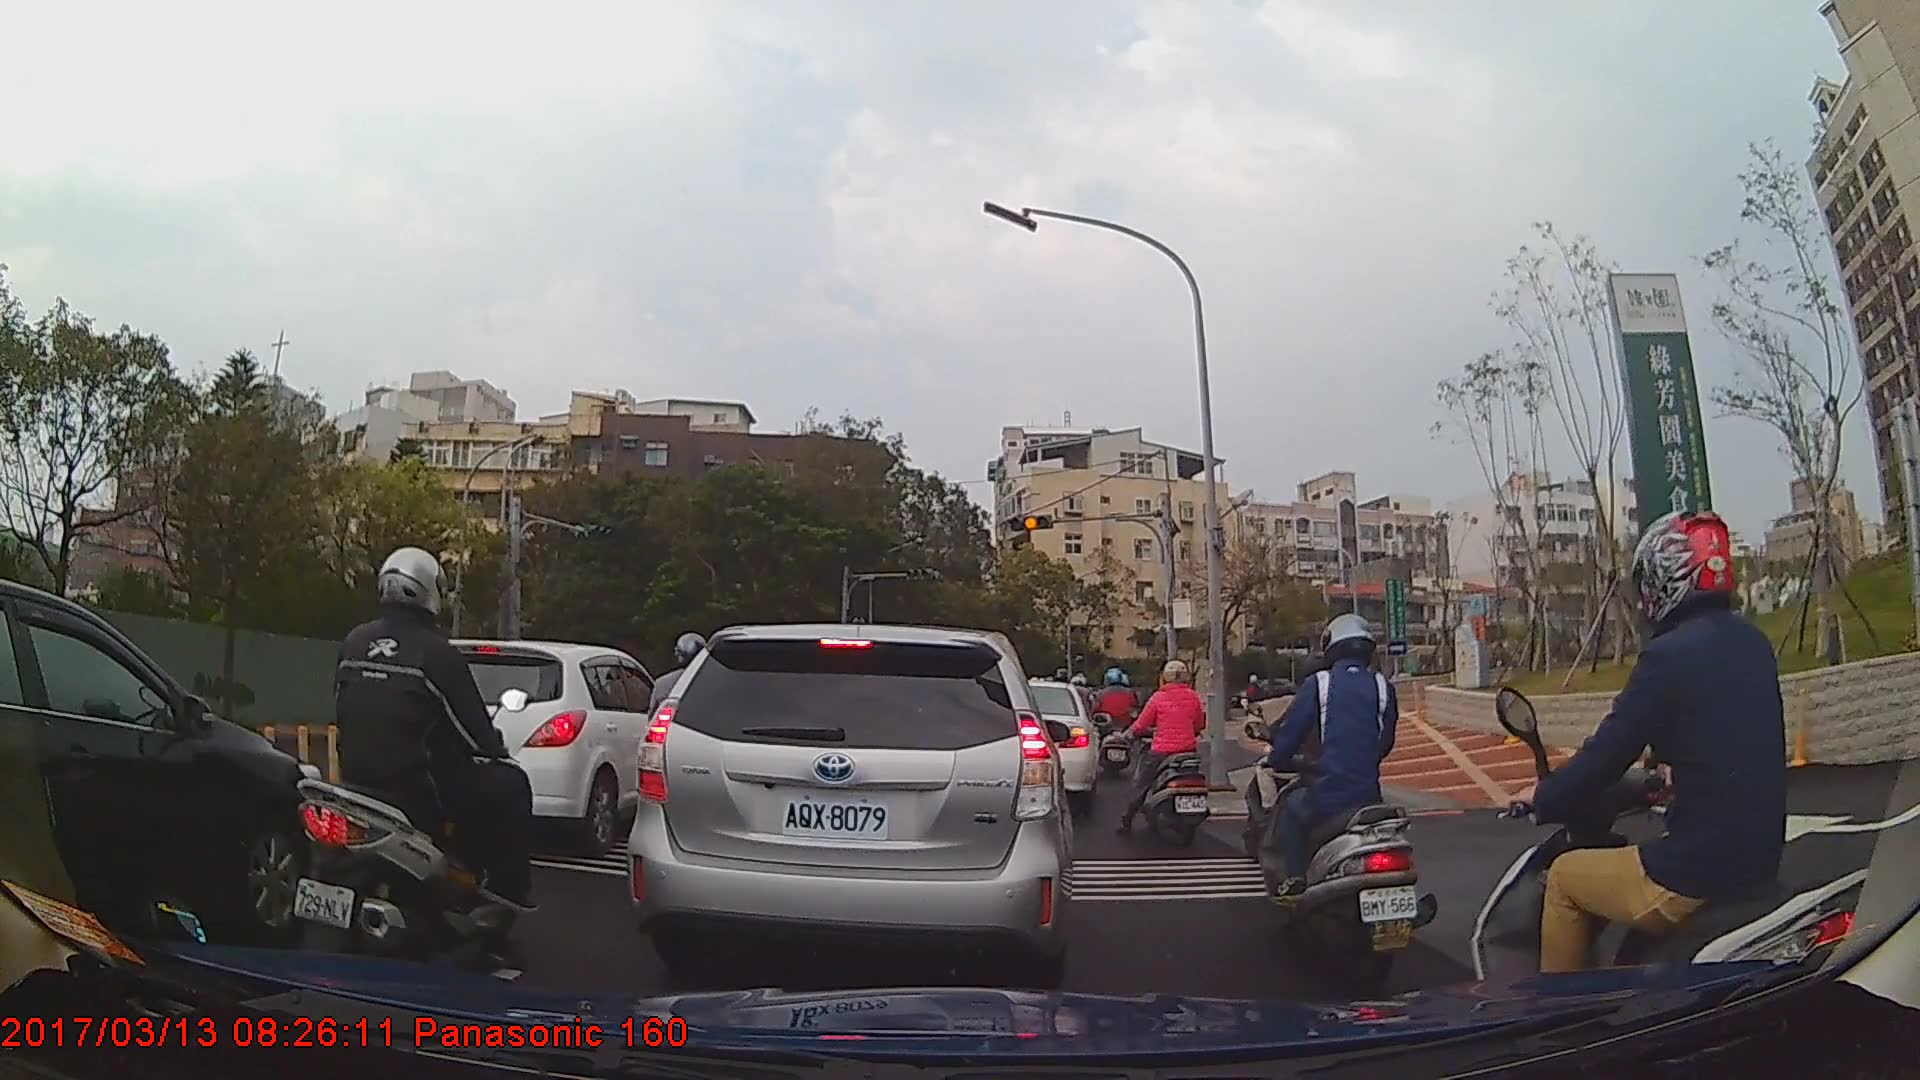rider: (1470, 510, 1874, 1078), (289, 544, 540, 992), (1249, 612, 1430, 1001), (1133, 662, 1213, 854), (1091, 666, 1140, 776)
vehicle: (626, 622, 1074, 989), (0, 573, 332, 943), (381, 638, 668, 859), (993, 678, 1100, 809)
